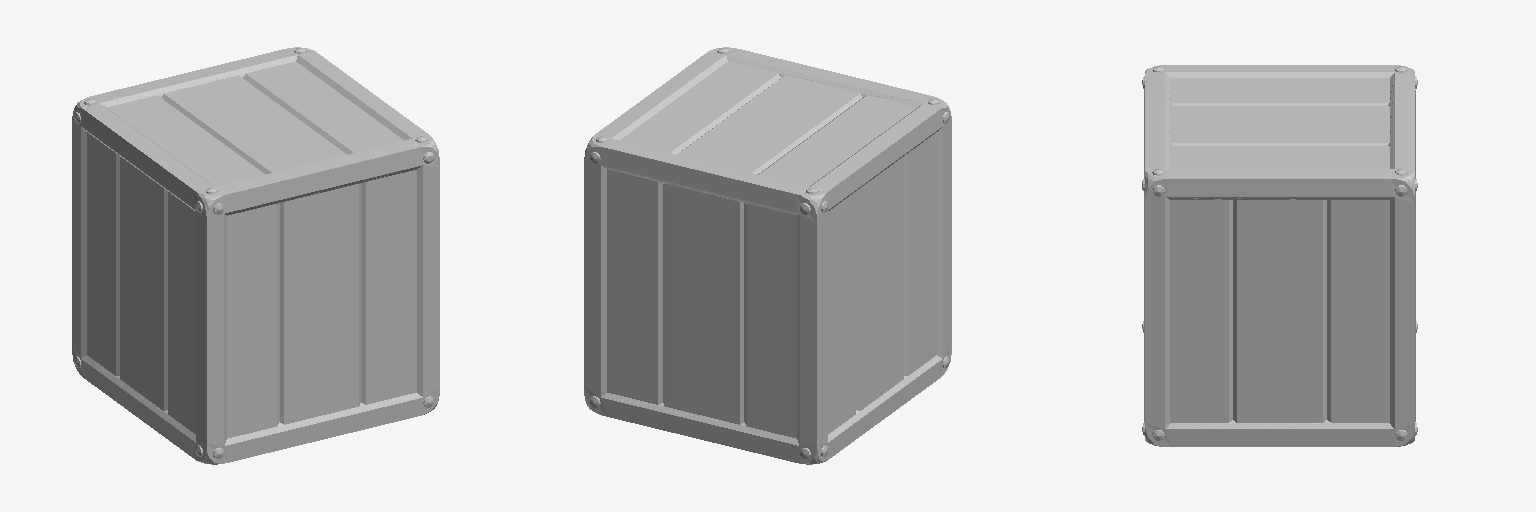
The model's file is cratePlatform_large.obj.
3 views of the same model, side by side, from view 1: azimuth 30°, elevation 25°; view 2: azimuth 150°, elevation 25°; view 3: azimuth 270°, elevation 25° (orthographic).
Visible parts, largest first — view 1: cratePlatform_large_Cube.3051; view 2: cratePlatform_large_Cube.3051; view 3: cratePlatform_large_Cube.3051.
Part boxes in pixels (bbox=[...]): cratePlatform_large_Cube.3051: bbox=[72, 47, 439, 464]; cratePlatform_large_Cube.3051: bbox=[584, 47, 951, 464]; cratePlatform_large_Cube.3051: bbox=[1142, 65, 1417, 446].
Bounding box in the file's own units: 2.05 × 2.25 × 2.05.